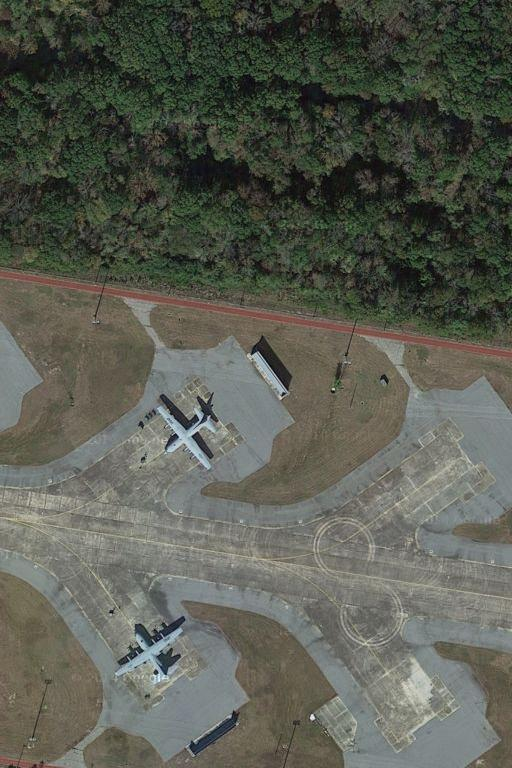C-130: (109, 622, 187, 688), (154, 400, 220, 475)
